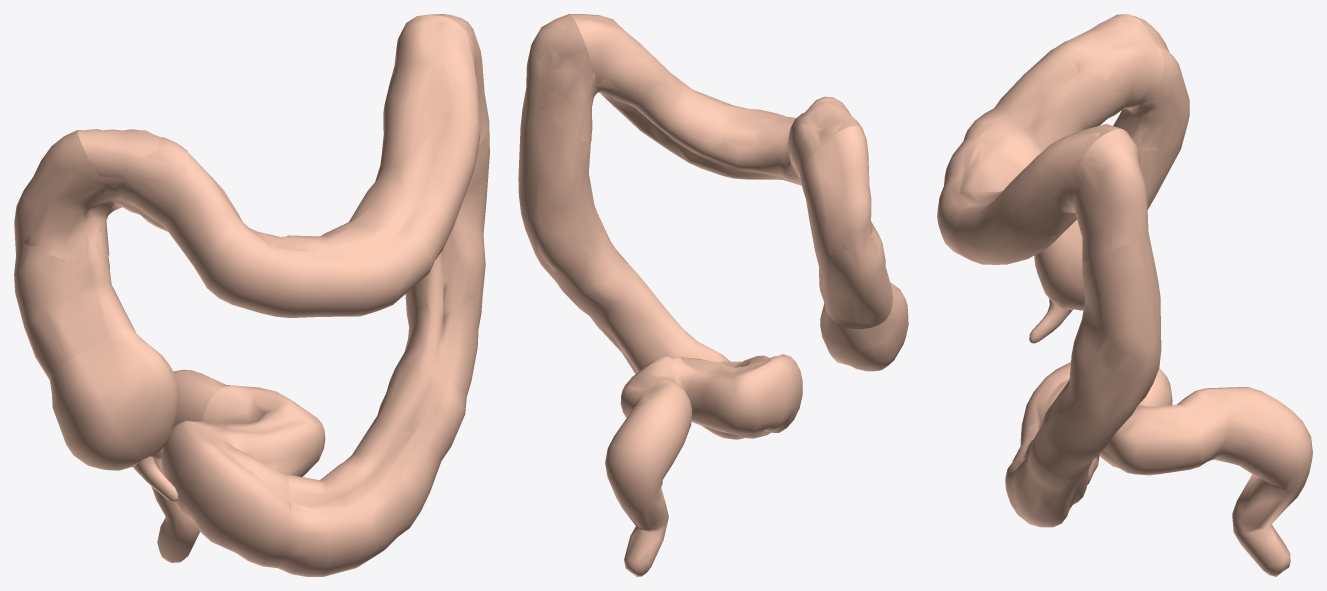
File: intestine_large.glb
The picture shows the model from 3 angles, left to right: view 1: azimuth 30°, elevation 25°; view 2: azimuth 150°, elevation 25°; view 3: azimuth 270°, elevation 25°; orthographic projection. The views are drawn at different scales.
Parts seen in each view (by area): view 1: VH_F_transverse_colon, VH_F_descending_colon, VH_F_sigmoid_colon, VH_F_ascending_colon, VH_F_caecum, VH_F_hepatic_flexure_of_colon, VH_F_rectum, VH_F_splenic_flexure_of_colon, VH_F_vermiform_appendix; view 2: VH_F_descending_colon, VH_F_transverse_colon, VH_F_ascending_colon, VH_F_rectum, VH_F_sigmoid_colon, VH_F_caecum, VH_F_hepatic_flexure_of_colon, VH_F_splenic_flexure_of_colon; view 3: VH_F_descending_colon, VH_F_transverse_colon, VH_F_rectum, VH_F_sigmoid_colon, VH_F_ascending_colon, VH_F_hepatic_flexure_of_colon, VH_F_caecum, VH_F_splenic_flexure_of_colon, VH_F_vermiform_appendix.
Part boxes in pixels (x1,y1,x2,y2): VH_F_transverse_colon: (77,14,480,317); VH_F_descending_colon: (278,14,489,576); VH_F_sigmoid_colon: (161,385,325,568); VH_F_ascending_colon: (14,130,135,379); VH_F_caecum: (50,327,179,470); VH_F_hepatic_flexure_of_colon: (23,129,188,261); VH_F_rectum: (151,369,230,562); VH_F_splenic_flexure_of_colon: (383,21,488,155); VH_F_vermiform_appendix: (132,456,178,501); VH_F_descending_colon: (518,14,744,439); VH_F_transverse_colon: (569,14,862,185); VH_F_ascending_colon: (800,125,892,329); VH_F_rectum: (605,380,692,576); VH_F_sigmoid_colon: (621,354,802,438); VH_F_caecum: (820,282,908,371); VH_F_hepatic_flexure_of_colon: (788,96,872,255); VH_F_splenic_flexure_of_colon: (524,15,648,142); VH_F_descending_colon: (1005,128,1161,527); VH_F_transverse_colon: (937,14,1163,264); VH_F_rectum: (1196,386,1312,576); VH_F_sigmoid_colon: (1021,362,1201,475); VH_F_ascending_colon: (1113,15,1189,209); VH_F_hepatic_flexure_of_colon: (1041,18,1186,150); VH_F_caecum: (1034,220,1084,310); VH_F_splenic_flexure_of_colon: (1009,129,1148,262); VH_F_vermiform_appendix: (1029,299,1072,343).
Size of the model in its own units: 0.2433 by 0.2948 by 0.1934.
